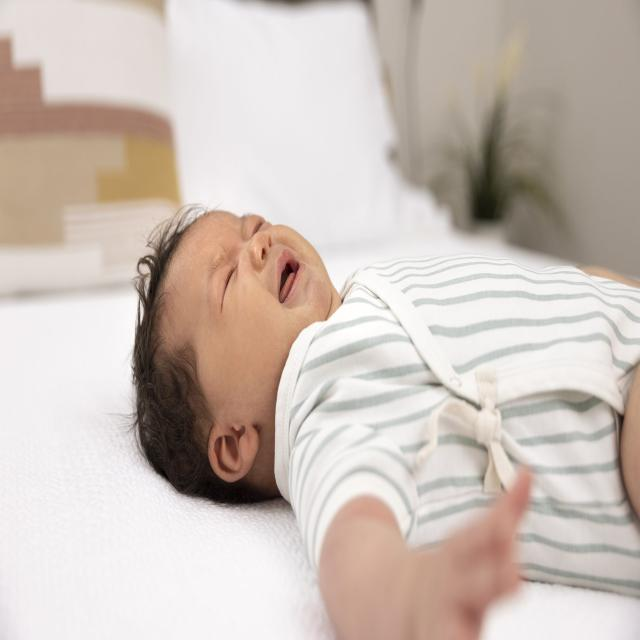child: (130, 207, 640, 640)
